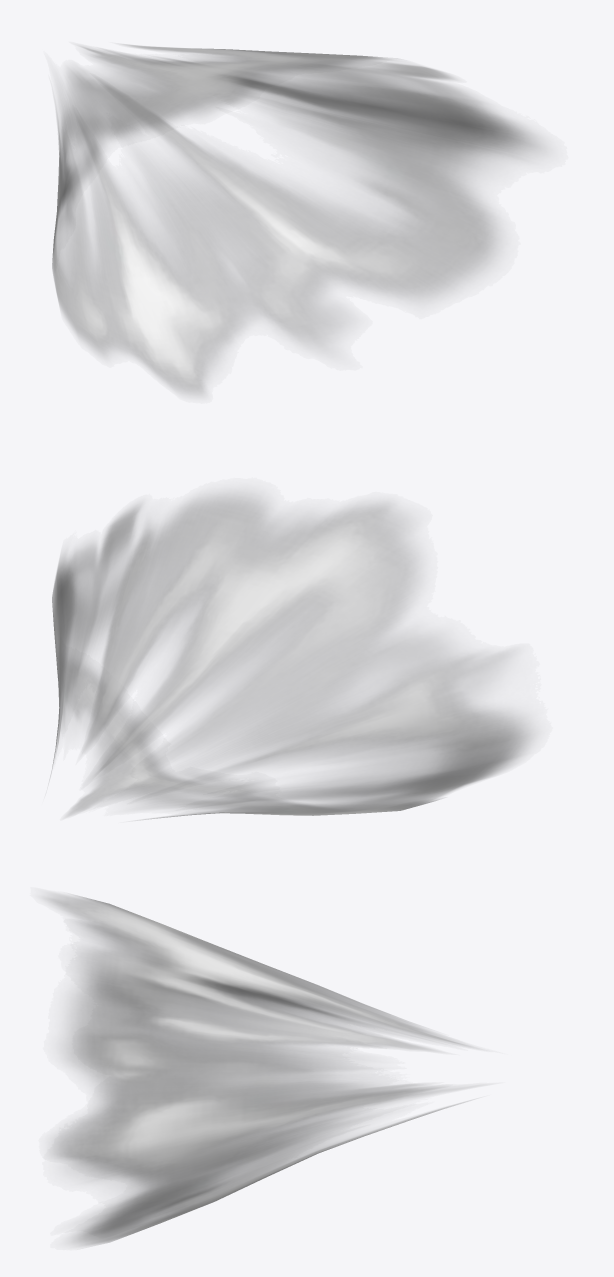
The picture shows the model from 3 angles, top to bottom: view 1: azimuth 30°, elevation 25°; view 2: azimuth 150°, elevation 25°; view 3: azimuth 270°, elevation 25°; orthographic projection. The views are drawn at different scales.
Visible parts, largest first — view 1: SM_VFX_CrystalBow_Shattershot_Cone_LOD0; view 2: SM_VFX_CrystalBow_Shattershot_Cone_LOD0; view 3: SM_VFX_CrystalBow_Shattershot_Cone_LOD0.
Part boxes in pixels (x1=…): SM_VFX_CrystalBow_Shattershot_Cone_LOD0: x1=52, y1=45, x2=540, y2=395; SM_VFX_CrystalBow_Shattershot_Cone_LOD0: x1=52, y1=493, x2=531, y2=819; SM_VFX_CrystalBow_Shattershot_Cone_LOD0: x1=45, y1=894, x2=470, y2=1245.
Size of the model in its own units: 2 by 1.12 by 2.
1 material, 1 textured.
